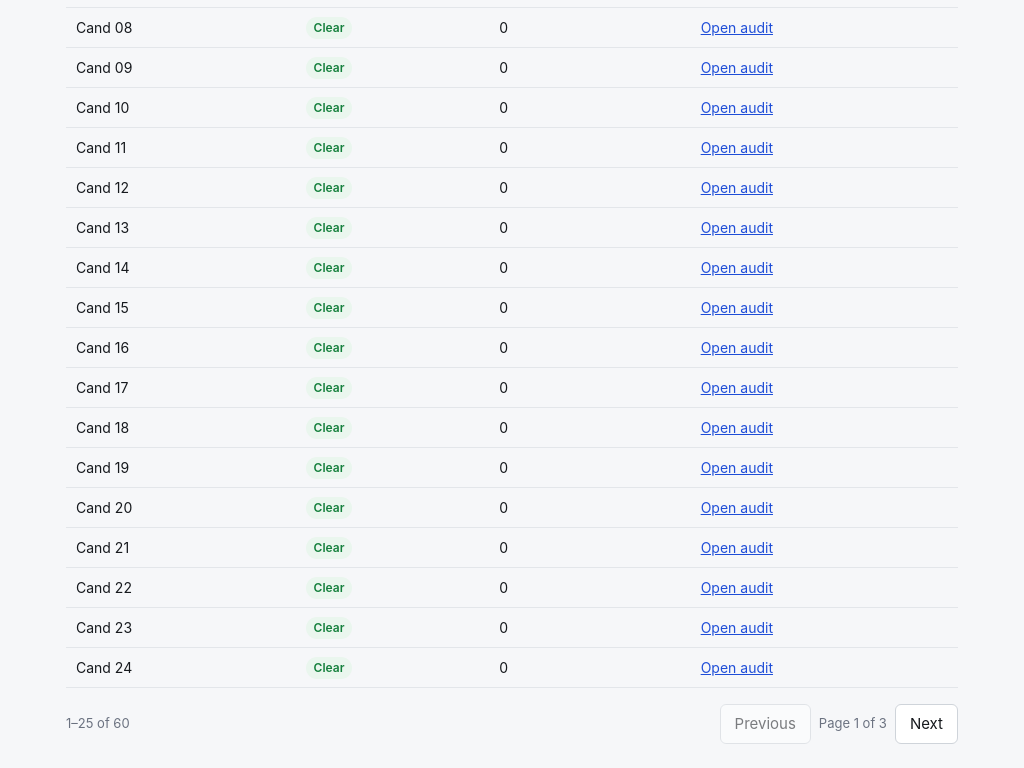
it: paginates the results table at 25 rows a page
The width and height of the screenshot is (1024, 768).
(page scrolled)
Expected: the text "1–25 of 60" is shown, top-left (66, 714), bottom-right (130, 734)
Click the button "Next". click: [926, 724]
box: top-left (895, 704), bottom-right (958, 744)
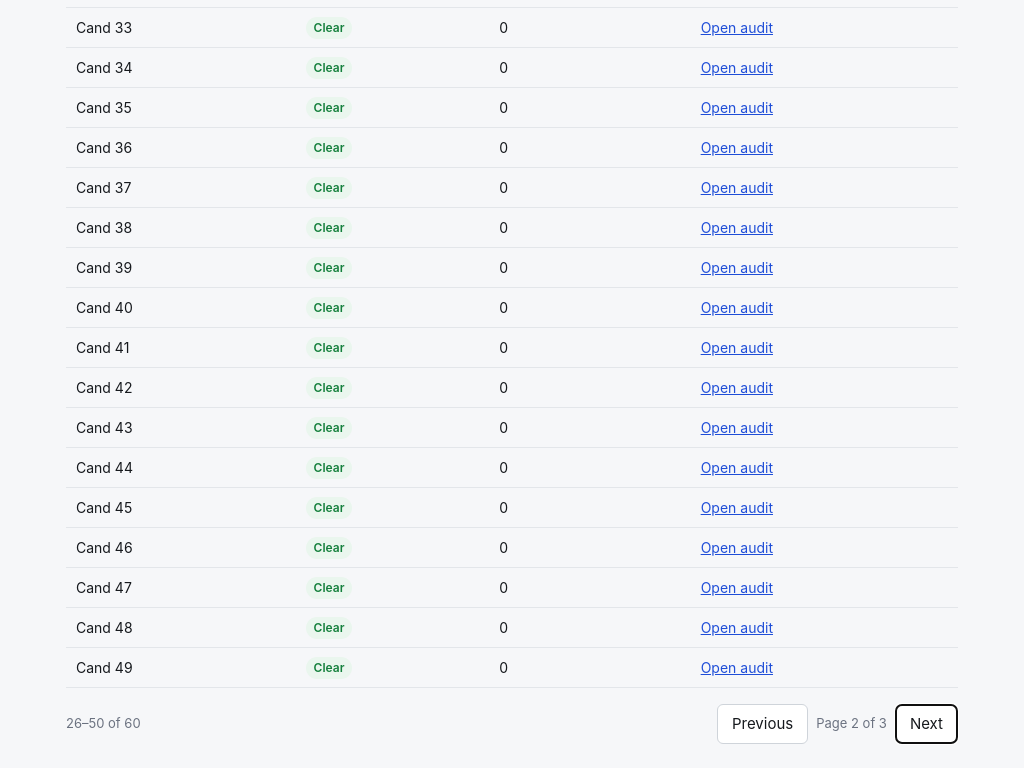
Now the text "26–50 of 60" is shown, box top-left (66, 714), bottom-right (141, 734)
